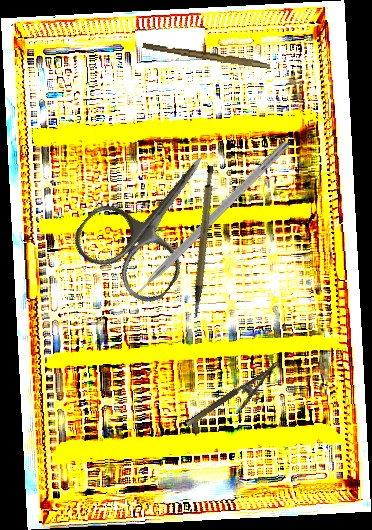Chopper: (113, 130, 291, 309)
Iris Scissors: (65, 124, 246, 312)
Needle Holder: (184, 361, 289, 439)
Scalpel Handle: (169, 164, 234, 319), (142, 42, 271, 69)
